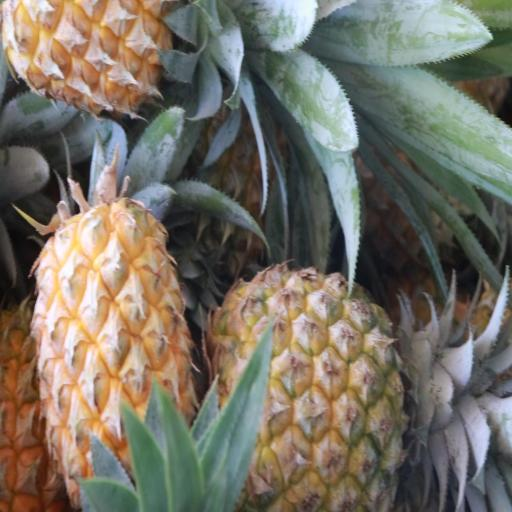Pineapple - v8 v1: (211, 260, 421, 512), (34, 196, 196, 512), (3, 0, 239, 110)
